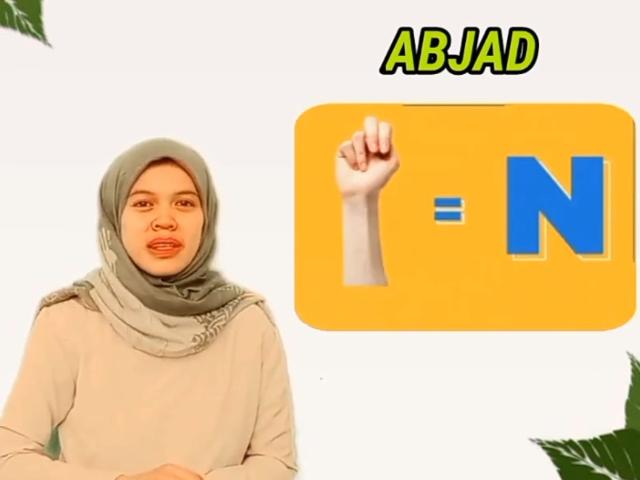N: (332, 109, 398, 199)
